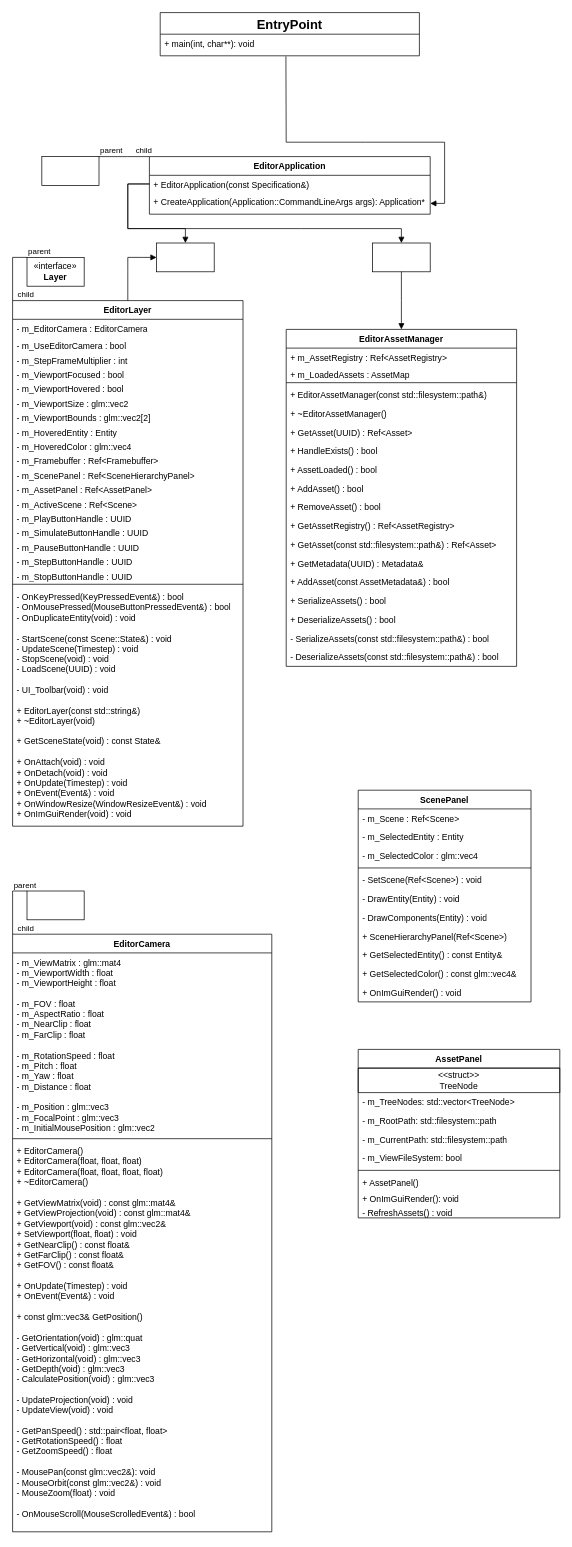
This 572x1547 diagram has some shape labels left out. The shapes that lost their labels are listed below. From the top down, each one's centre as x and y in pixels, then its label:
At [70,170]: "«interface» Application".
At [185,257]: "«interface» LayerStack".
At [401,257]: "«interface» Project".
At [55,905]: "«interface» Camera".
